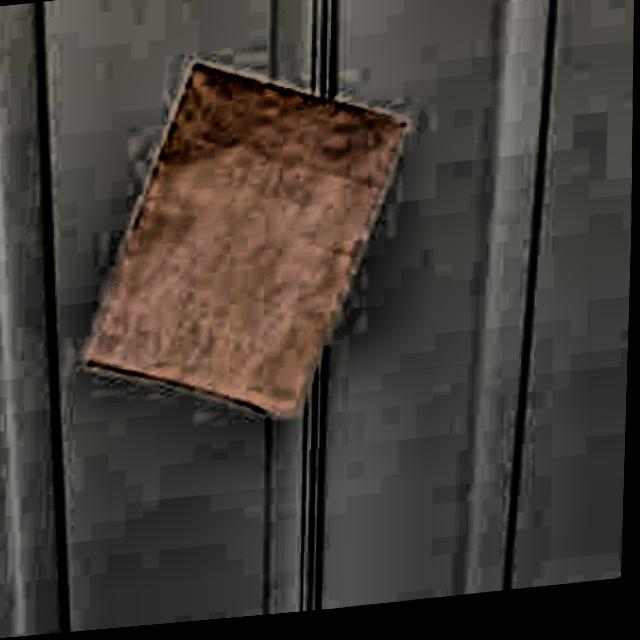Paper-bag: (70, 38, 429, 465)
